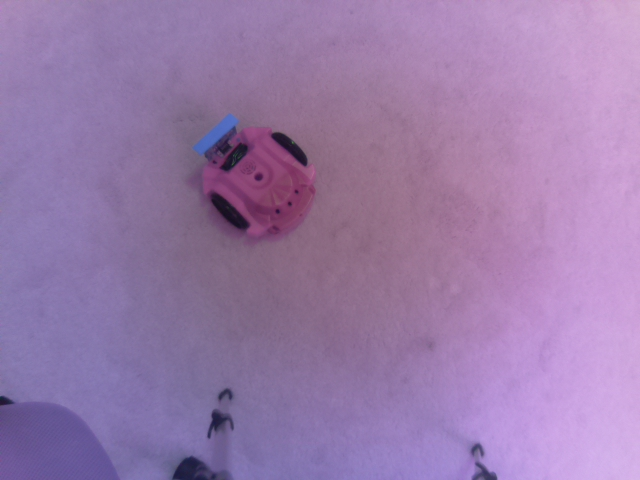board: (197, 112, 244, 153)
chassis: (194, 110, 322, 246)
